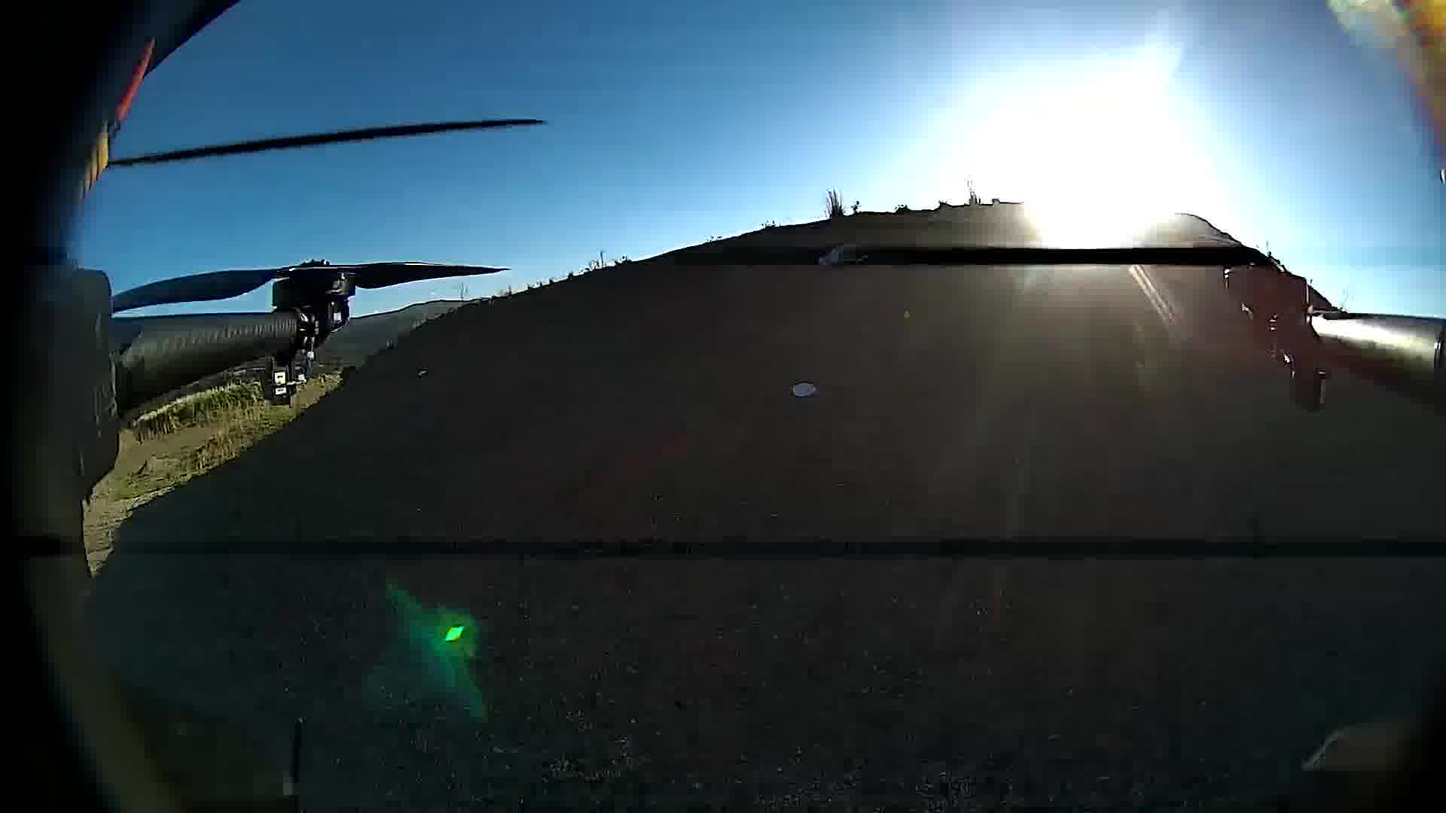Target: (790, 381, 822, 399)
